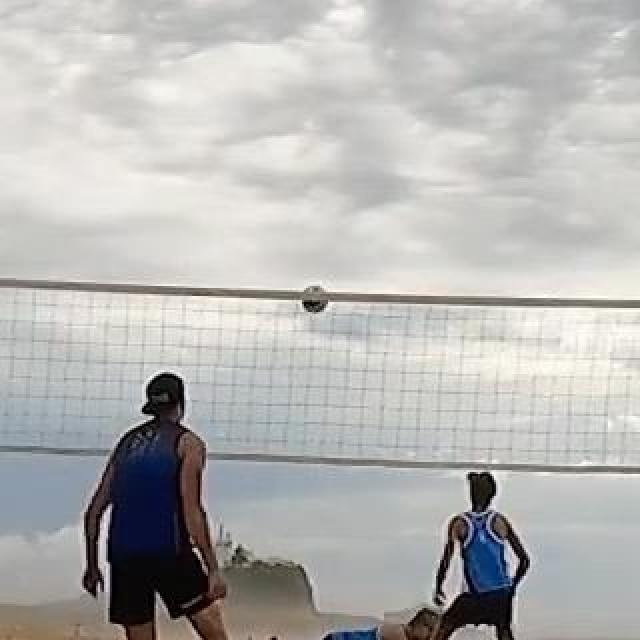volleyball: (300, 285, 326, 313)
